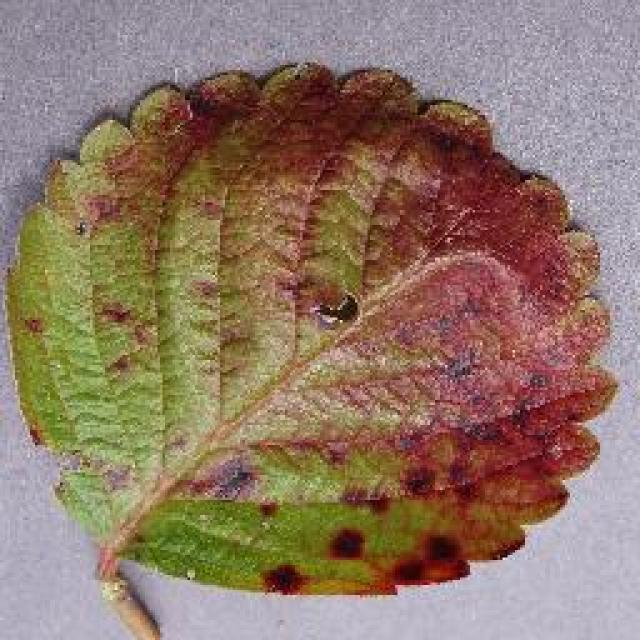Strawberry leaf scorch: (145, 92, 523, 548)
